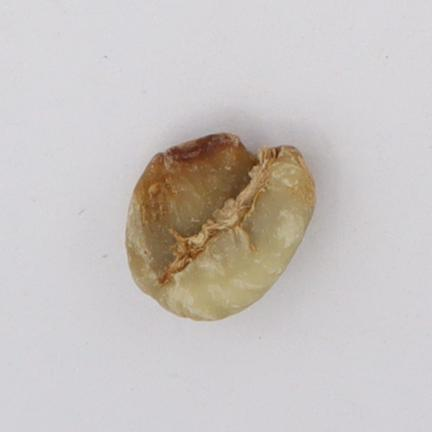cut: (127, 135, 315, 320)
